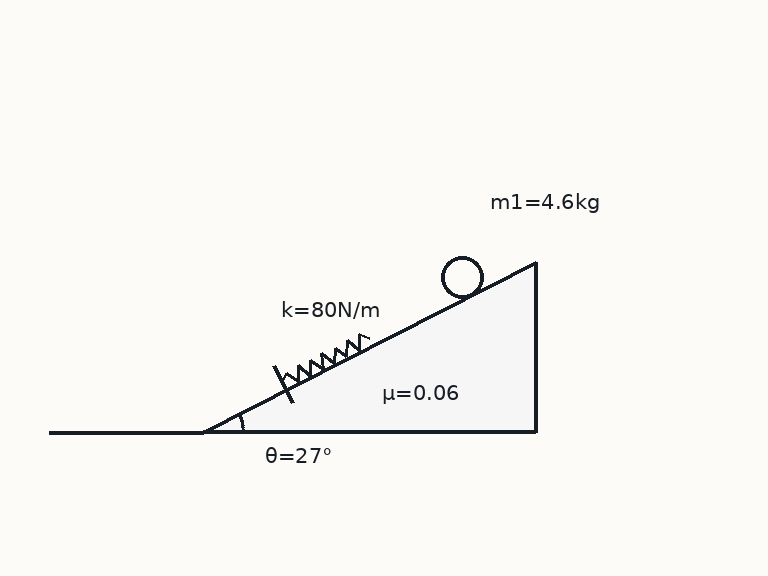ball: (439, 254, 485, 300)
ramp: (201, 261, 537, 434)
spring: (280, 333, 370, 384)
